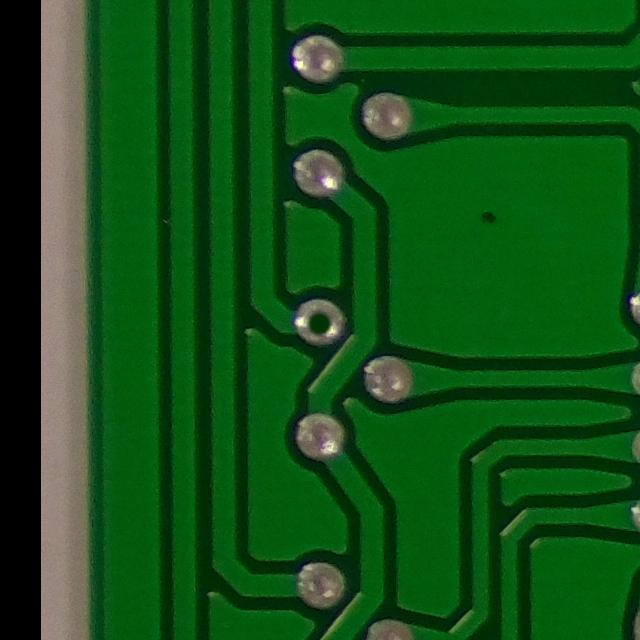missing_hole: (284, 289, 354, 354)
